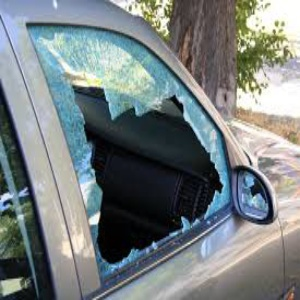side_mirror: (228, 162, 278, 225)
